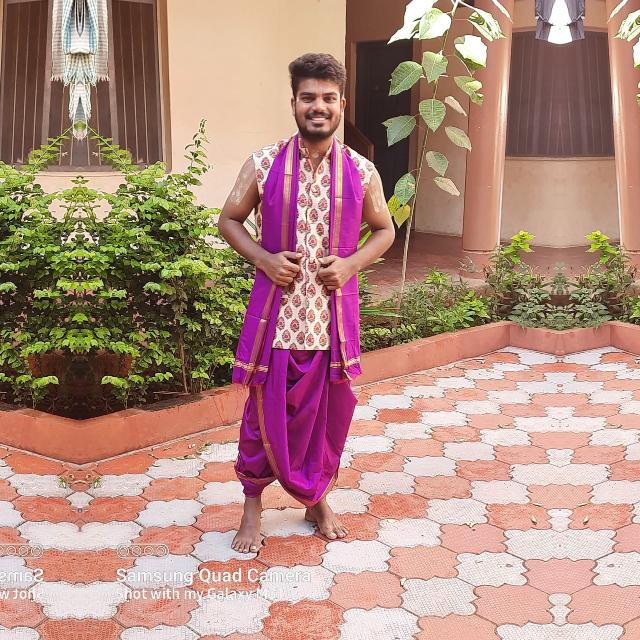person: (248, 42, 372, 552)
